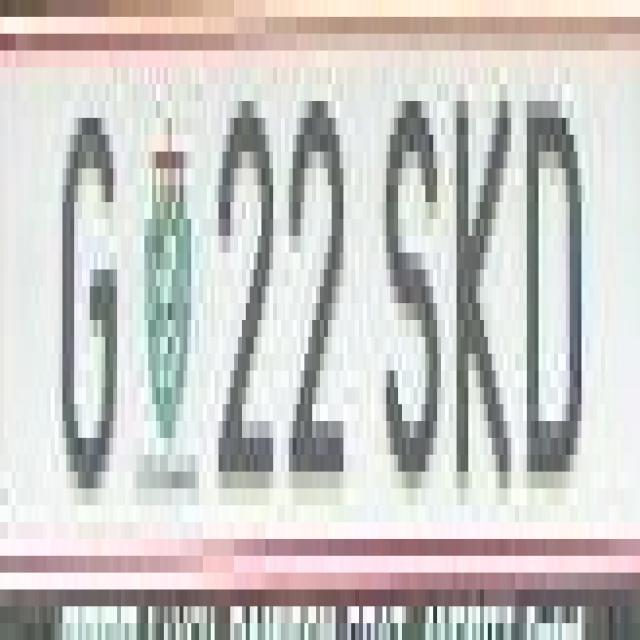2: (210, 101, 274, 472), (288, 84, 339, 472)
D: (526, 51, 582, 488)
G: (62, 67, 120, 522)
K: (452, 51, 516, 506)
S: (382, 51, 438, 488)
